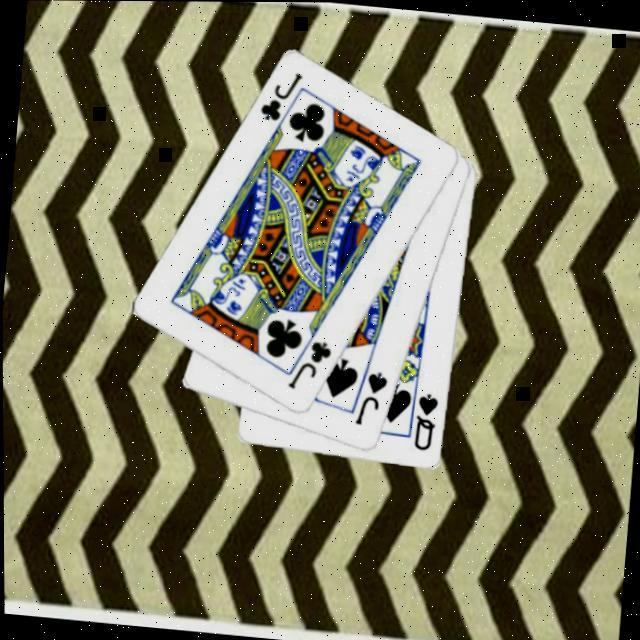JC: (284, 338, 337, 398), (257, 68, 308, 128)
JS: (352, 368, 392, 432)
QS: (412, 390, 444, 456)
